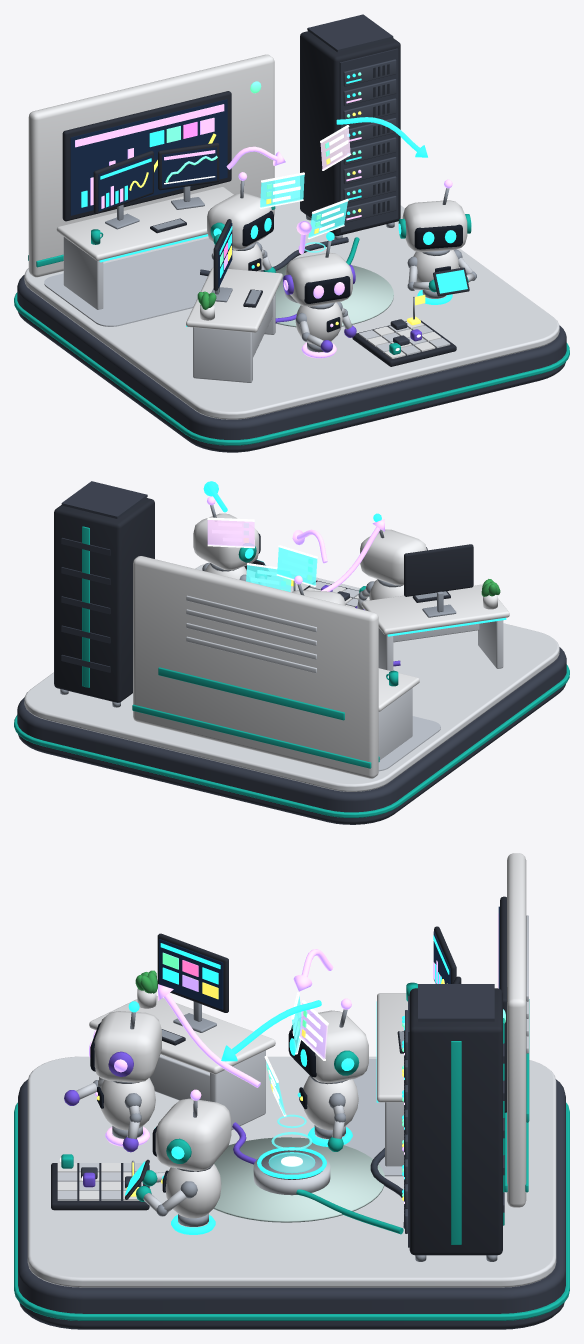
File: evaratus_lab.glb
3 views of the same model, one above another, from view 1: azimuth 30°, elevation 25°; view 2: azimuth 150°, elevation 25°; view 3: azimuth 270°, elevation 25° (orthographic). The views are drawn at different scales.
Visible parts, largest first — view 1: evaratus_lab; view 2: evaratus_lab; view 3: evaratus_lab.
Boxes of the visible parts, <box> form: evaratus_lab: <box>14,14,569,452</box>; evaratus_lab: <box>14,481,569,824</box>; evaratus_lab: <box>14,853,569,1329</box>.
Size of the model in its own units: 1 by 0.5793 by 1.
